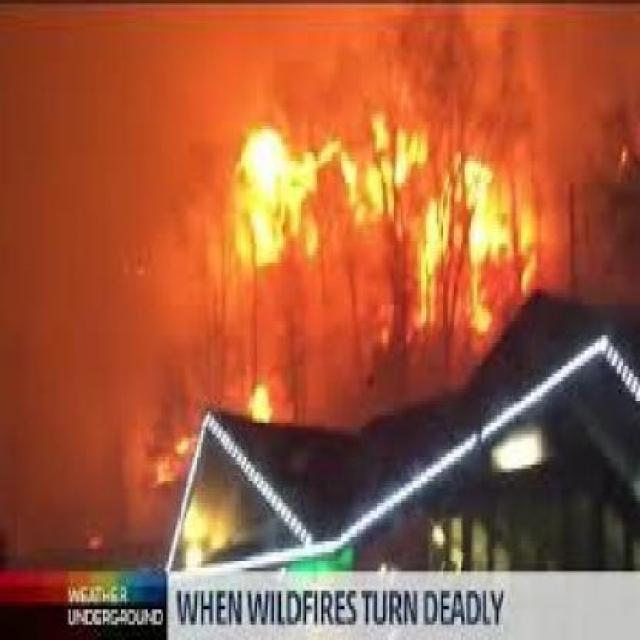Fire: (208, 93, 556, 284)
